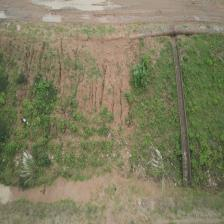slope_drain: (171, 38, 191, 186)
